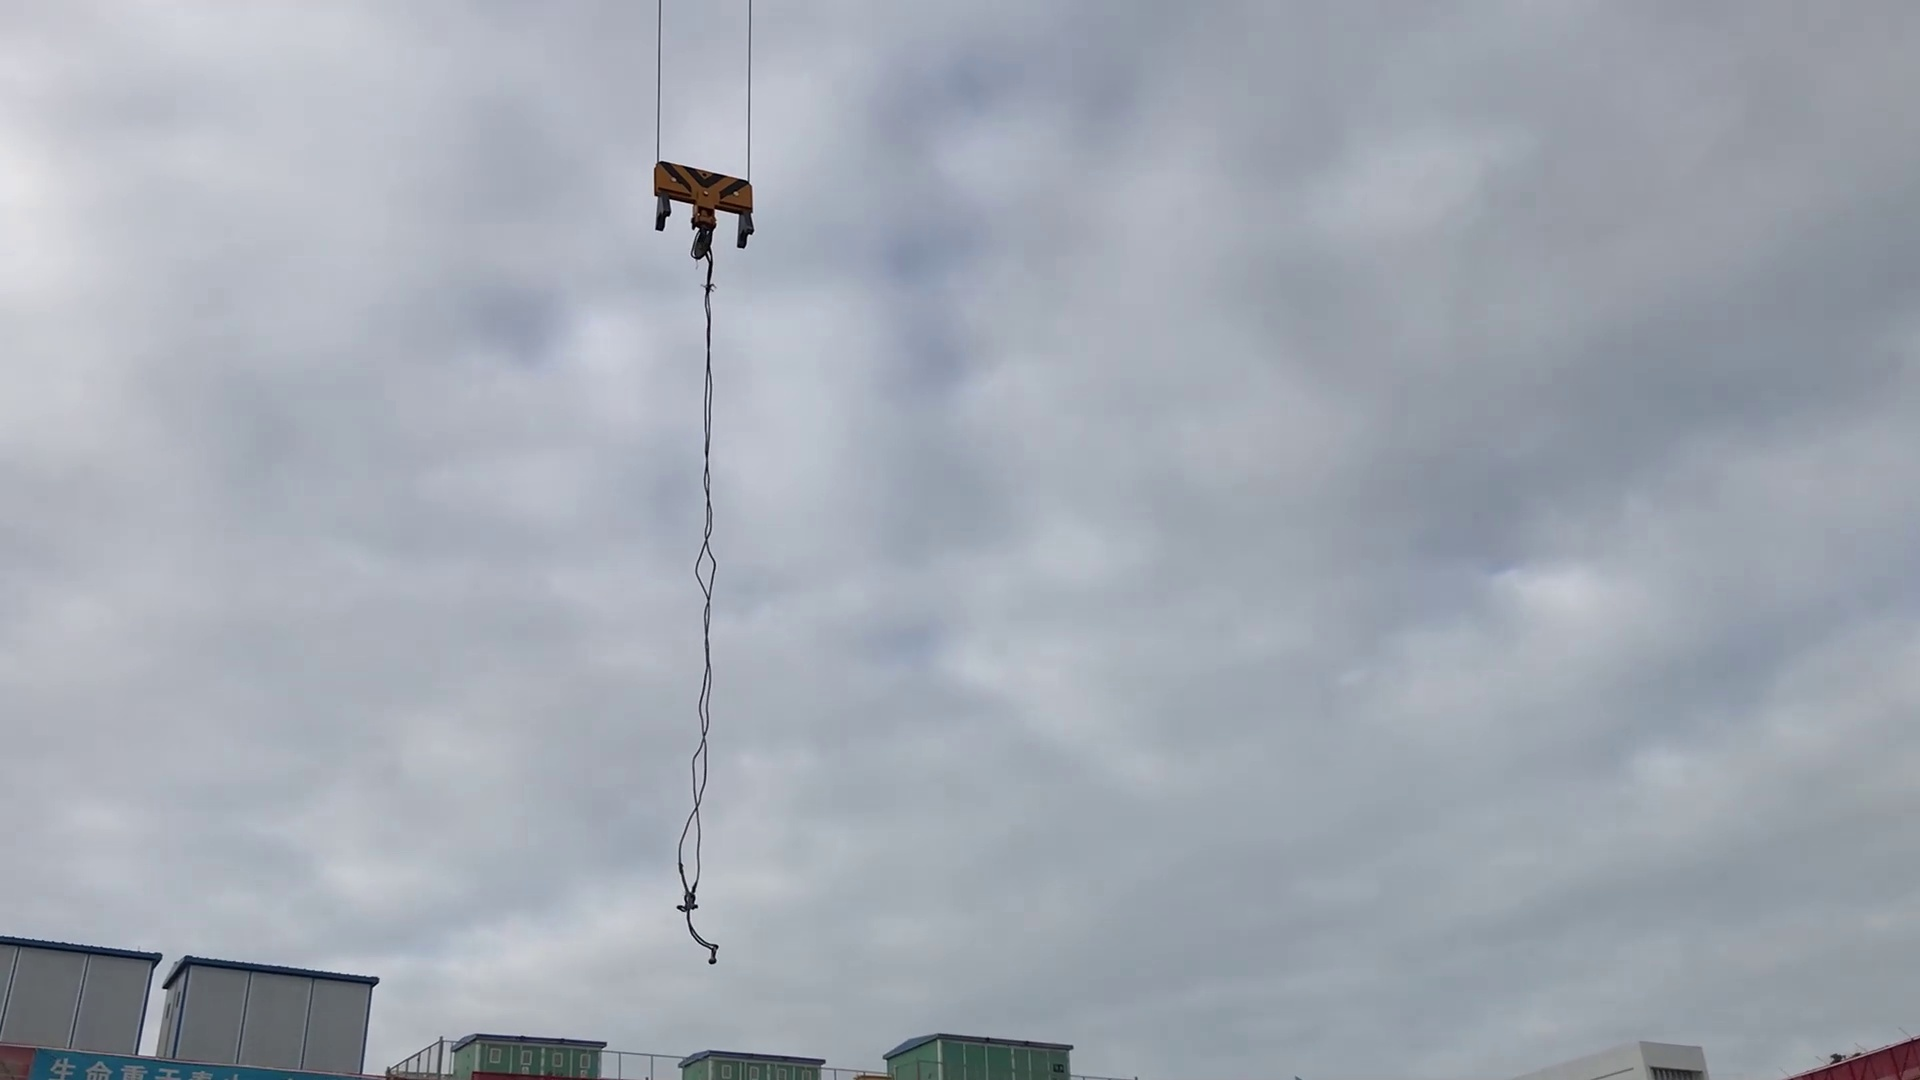hook: (638, 145, 769, 272)
slogan: (30, 1048, 336, 1080)
